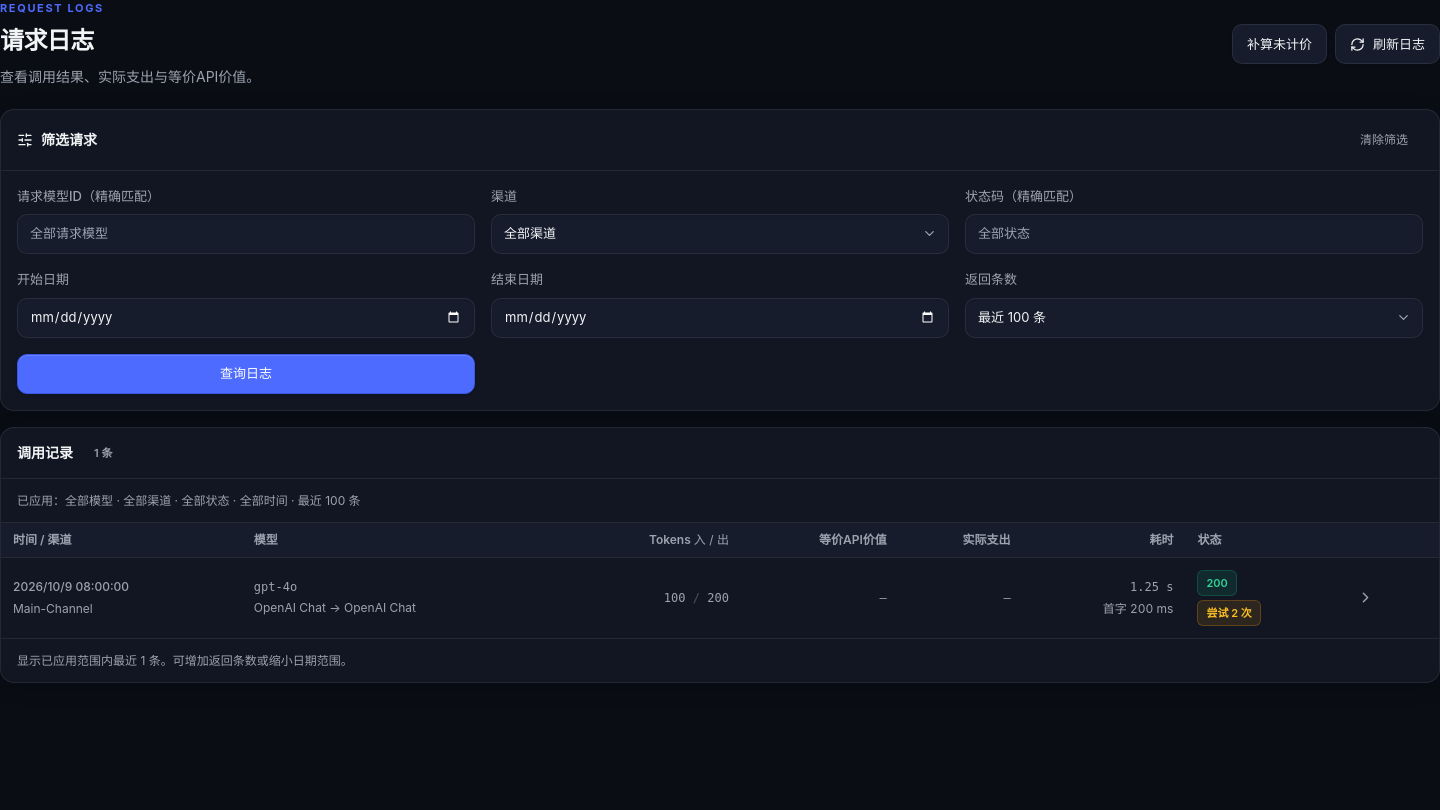
Test: Logs - Request Attempt & Switch Logs (T046) › renders Attempt Trace in detail modal with chronological order, badges, actions, and error reasons
Click the button named "查看请求 88 详情" at (1366, 598), box [1348,580,1384,616]
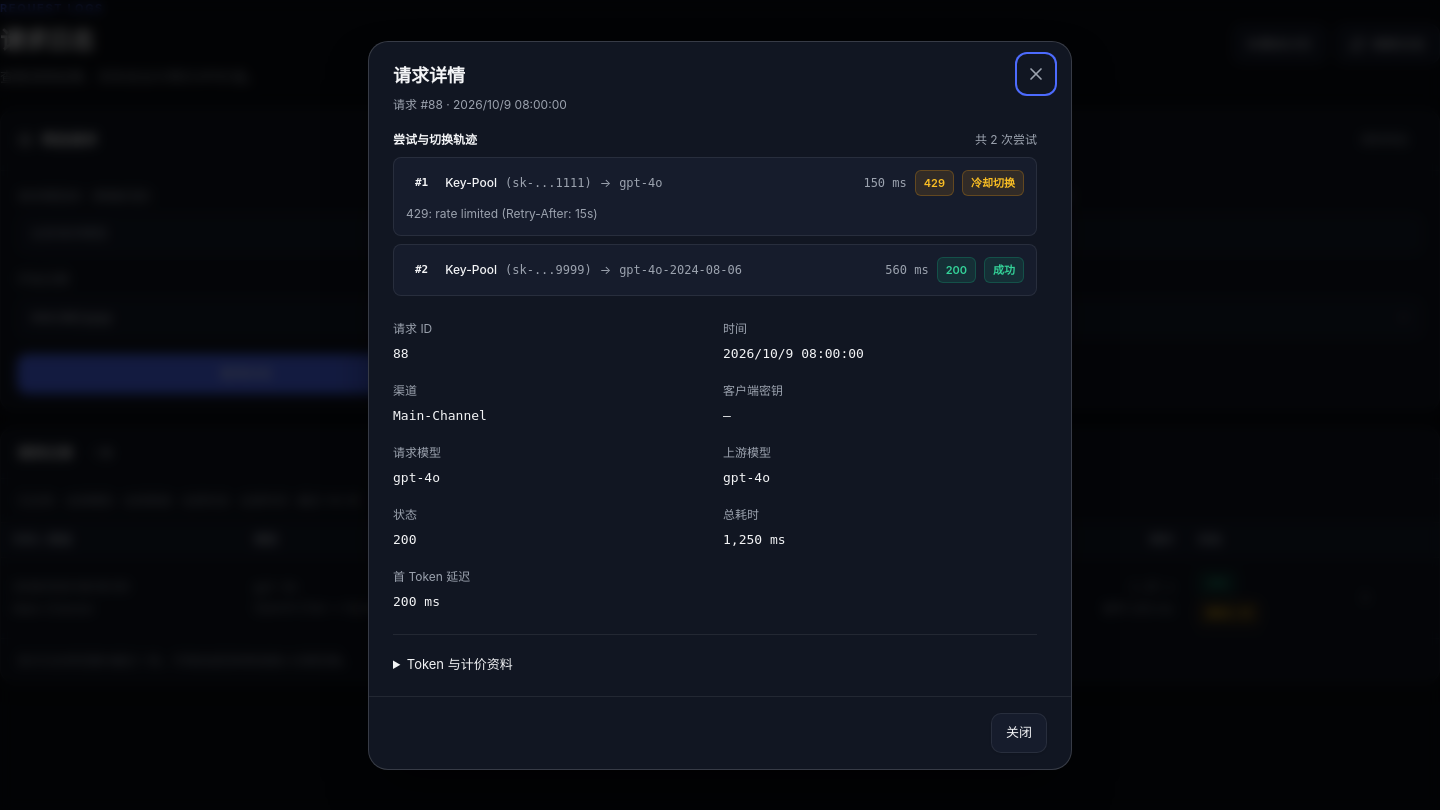
expect the element "尝试与切换轨迹" is shown: met, box [393,130,1037,296]
expect the text "共 2 次尝试" is shown: met, box [975,130,1037,148]
expect the text "sk-...1111" is shown: met, box [512,176,584,190]
